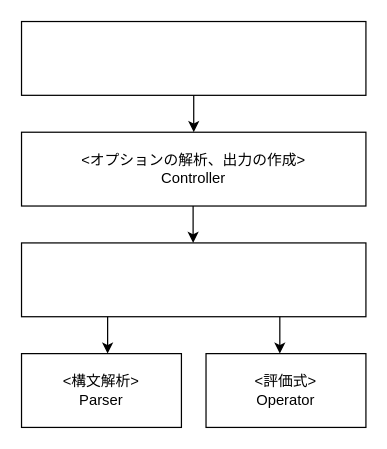
Image size: 387x449. Some labels were removed from this diagram. The shapes that lost their labels are listed below. From the top down, each one's centre as x and y in pixels, then its label:
At point 193,57: "<エントリーポイント> main.py".
At point 193,279: "<数式評価のサービス> Evaluator".
